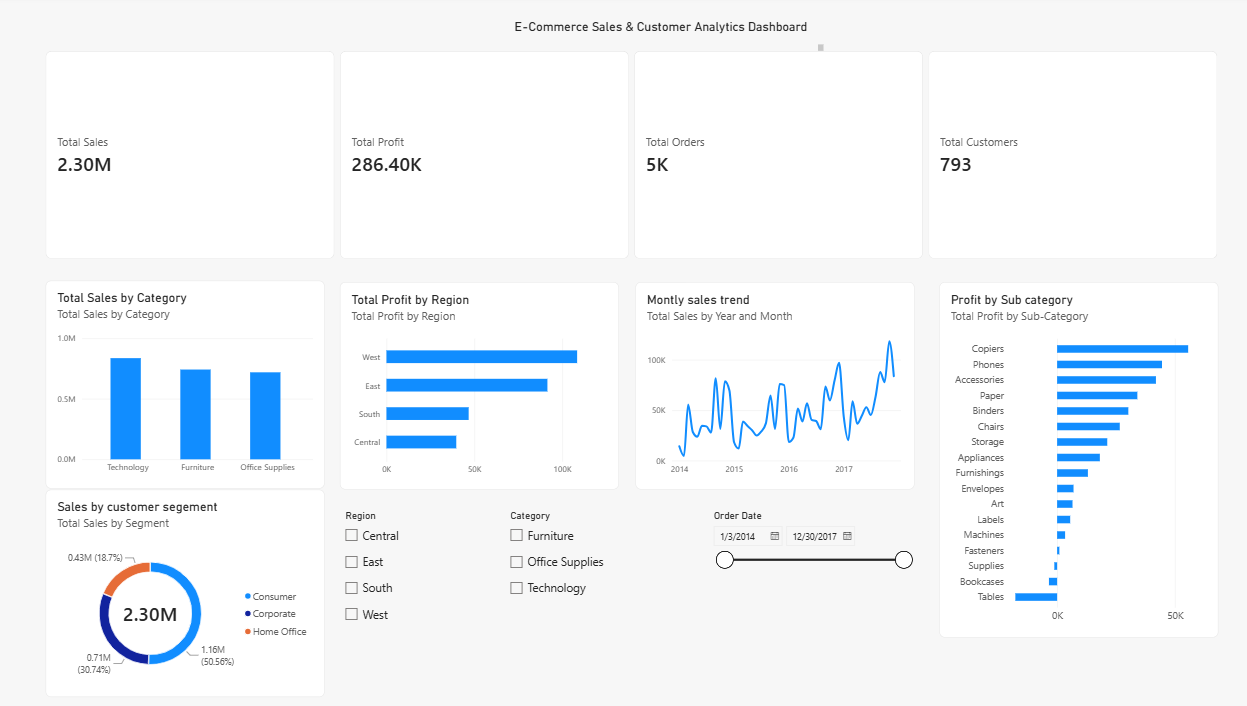

The page's visual inventory and layout, read from the dashboard file:
{"tool":"powerbi","page":{"name":"ecomomerce_sales_dashboard","canvas":[1920,1080],"ordinal":0},"visuals":[{"type":"cardVisual","fields":{"Data":["cleaned_superstore_sales.Total Sales","cleaned_superstore_sales.Total Profit","cleaned_superstore_sales.Total Orders","cleaned_superstore_sales.Total Customers"]},"box":[78,80,1706,302],"z":0},{"type":"textbox","title":" E-Commerce Sales & Customer Analytics Dashboard","box":[759.1,33.8,449.7,45.9],"z":1000},{"type":"clusteredColumnChart","title":"Total Sales by Category","fields":{"Category":["cleaned_superstore_sales.Category"],"Y":["cleaned_superstore_sales.Total Sales"]},"box":[77.4,413.4,406.2,302.2],"z":2000},{"type":"clusteredBarChart","title":"Total Profit by Region","fields":{"Category":["cleaned_superstore_sales.Region"],"Y":["cleaned_superstore_sales.Total Profit"]},"box":[505.3,415.8,406,302],"z":3000},{"type":"lineChart","title":"Montly sales trend","fields":{"Category":["cleaned_superstore_sales.Order Date.Variation.Date Hierarchy.Year","cleaned_superstore_sales.Order Date.Variation.Date Hierarchy.Month"],"Y":["cleaned_superstore_sales.Total Sales"]},"box":[935.6,415.8,406,302],"z":4000},{"type":"donutChart","title":"Sales by customer segement","fields":{"Category":["cleaned_superstore_sales.Segment"],"Y":["cleaned_superstore_sales.Total Sales"]},"box":[77.4,718,406,302],"z":5000},{"type":"clusteredBarChart","title":"Profit by Sub category","fields":{"Category":["cleaned_superstore_sales.Sub-Category"],"Y":["cleaned_superstore_sales.Total Profit"]},"box":[1378,415.8,406.2,517.4],"z":6000},{"type":"slicer","fields":{"Values":["cleaned_superstore_sales.Region"]},"box":[506,748,202,186],"z":7000},{"type":"slicer","fields":{"Values":["cleaned_superstore_sales.Category"]},"box":[746,748,256,168],"z":8000},{"type":"slicer","fields":{"Values":["cleaned_superstore_sales.Order Date"]},"box":[1042,748,300,168],"z":9000}]}

Visuals, with their boxes in screenshot pixels (x1, y1, x2, y2), scaled from the page's 1920x1080 canvas onto the 1247x706 screenshot:
cardVisual - cleaned_superstore_sales.Total Sales x cleaned_superstore_sales.Total Profit: box(51, 52, 1159, 250)
" E-Commerce Sales & Customer Analytics Dashboard" textbox: box(493, 22, 785, 52)
"Total Sales by Category" clusteredColumnChart: box(50, 270, 314, 468)
"Total Profit by Region" clusteredBarChart: box(328, 272, 592, 469)
"Montly sales trend" lineChart: box(608, 272, 871, 469)
"Sales by customer segement" donutChart: box(50, 469, 314, 667)
"Profit by Sub category" clusteredBarChart: box(895, 272, 1159, 610)
slicer - cleaned_superstore_sales.Region: box(329, 489, 460, 611)
slicer - cleaned_superstore_sales.Category: box(485, 489, 651, 599)
slicer - cleaned_superstore_sales.Order Date: box(677, 489, 872, 599)
